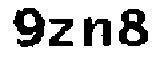8: (117, 5, 153, 48)
9: (11, 2, 46, 51)
n: (82, 13, 114, 54)
z: (46, 17, 79, 49)
